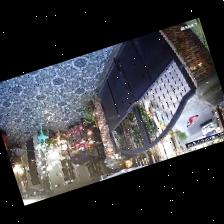person: (186, 115, 197, 126)
